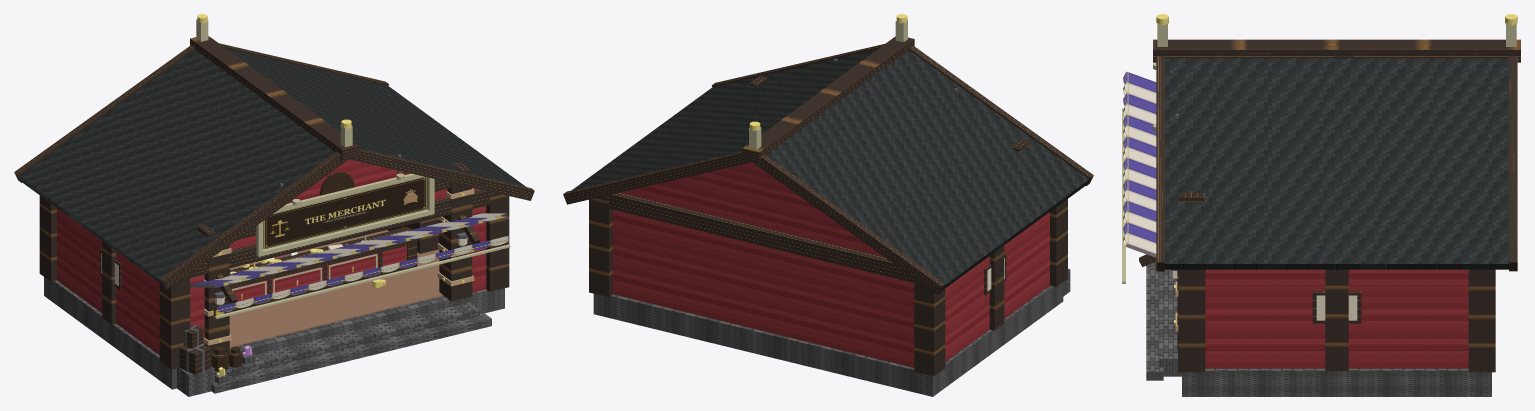
File: Merchant_Studio.fbx
3 renders of one model, left to right at view 1: azimuth 30°, elevation 25°; view 2: azimuth 150°, elevation 25°; view 3: azimuth 270°, elevation 25°, orthographic. The views are drawn at different scales.
Visible parts, largest first — view 1: Merchant_Shingles, Merchant_Timber, Merchant_Stone, Merchant_Walls, Merchant_Floor, Merchant_Signboard, Merchant_Awning, Merchant_AntiqueGold, Merchant_Bronze, Merchant_BrightGold, Merchant_DarkIron; view 2: Merchant_Shingles, Merchant_Walls, Merchant_Timber, Merchant_Stone, Merchant_AntiqueGold; view 3: Merchant_Shingles, Merchant_Walls, Merchant_Timber, Merchant_Stone, Merchant_Awning, Merchant_AntiqueGold, Merchant_WarmGlow.
Part boxes in pixels (bbox=[...]): Merchant_Shingles: bbox=[15, 49, 525, 287]; Merchant_Timber: bbox=[14, 36, 534, 374]; Merchant_Stone: bbox=[44, 277, 504, 396]; Merchant_Walls: bbox=[57, 159, 486, 354]; Merchant_Floor: bbox=[229, 230, 443, 347]; Merchant_Signboard: bbox=[263, 176, 428, 249]; Merchant_Awning: bbox=[191, 213, 508, 312]; Merchant_AntiqueGold: bbox=[196, 19, 510, 355]; Merchant_Bronze: bbox=[203, 188, 474, 345]; Merchant_BrightGold: bbox=[197, 14, 464, 377]; Merchant_DarkIron: bbox=[184, 154, 467, 371]; Merchant_Shingles: bbox=[572, 49, 1091, 292]; Merchant_Walls: bbox=[612, 162, 1049, 367]; Merchant_Timber: bbox=[563, 36, 1093, 376]; Merchant_Stone: bbox=[593, 269, 1070, 396]; Merchant_AntiqueGold: bbox=[749, 19, 907, 149]; Merchant_Shingles: bbox=[1158, 58, 1515, 269]; Merchant_Walls: bbox=[1205, 269, 1468, 368]; Merchant_Timber: bbox=[1139, 39, 1520, 372]; Merchant_Stone: bbox=[1146, 261, 1491, 396]; Merchant_Awning: bbox=[1123, 71, 1156, 257]; Merchant_AntiqueGold: bbox=[1122, 23, 1516, 283]; Merchant_WarmGlow: bbox=[1170, 269, 1357, 320].
Size of the model in its own units: 5358 by 3215 by 4120.
23 materials, 8 textured.
